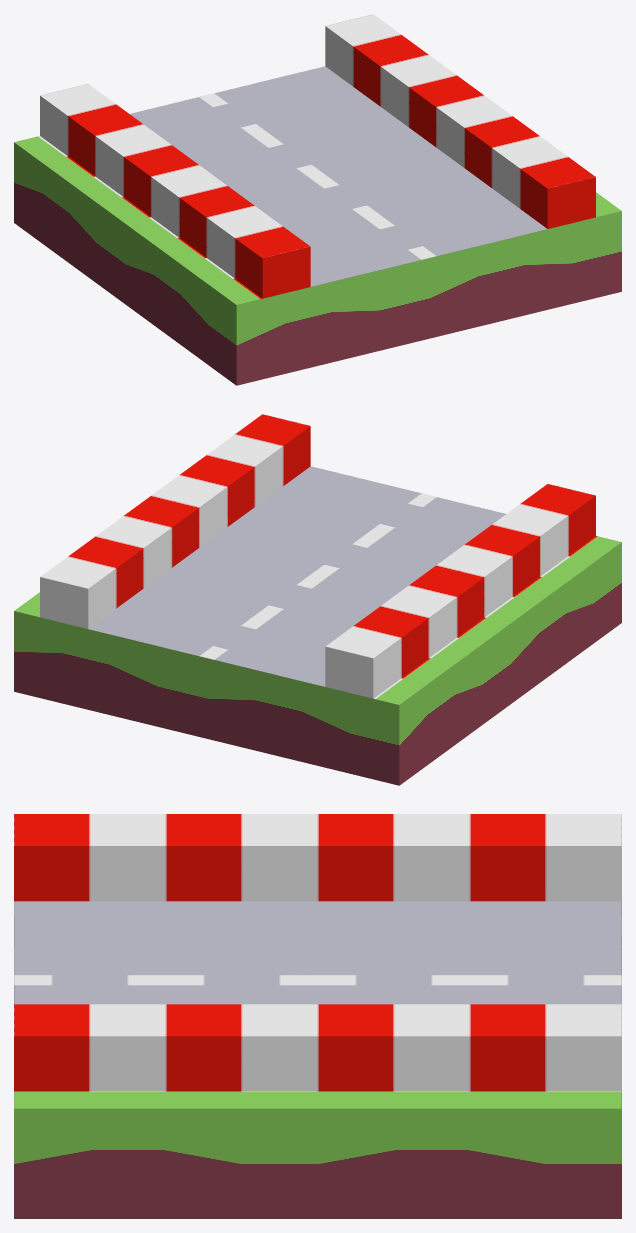
The model's file is straight.fbx.
3 renders of one model, top to bottom at view 1: azimuth 30°, elevation 25°; view 2: azimuth 150°, elevation 25°; view 3: azimuth 270°, elevation 25°, orthographic. The views are drawn at different scales.
Parts seen in each view (by area): view 1: straight; view 2: straight; view 3: straight.
Part boxes in pixels (x1,y1,x2,y2): straight: (14, 14, 621, 385); straight: (14, 414, 621, 785); straight: (14, 814, 621, 1218).
Bounding box in the file's own units: 1000 × 300 × 1000.
Materials: 3 (3 with a texture image).
